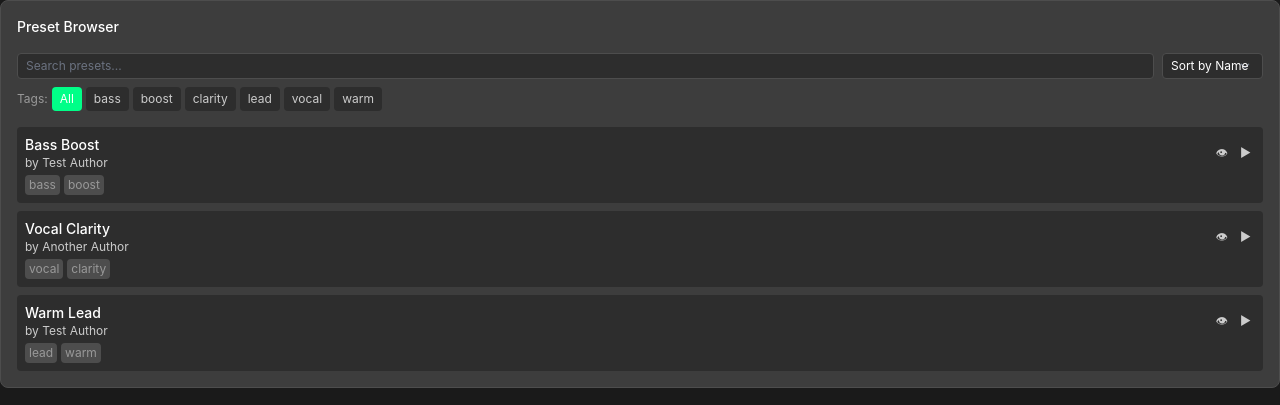
Scenario: PluginPresetBrowser › should filter presets by tag
Click the button "lead" at [260, 99], box [240, 87, 280, 111]
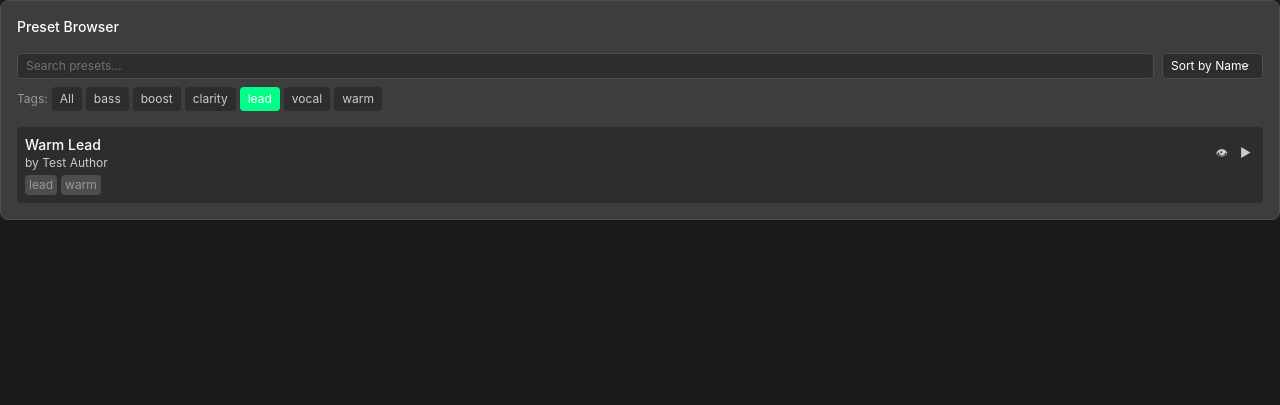
Expected: the text "Warm Lead" is shown, [25, 135, 101, 155]
Expected: the text "Vocal Clarity" is not shown
